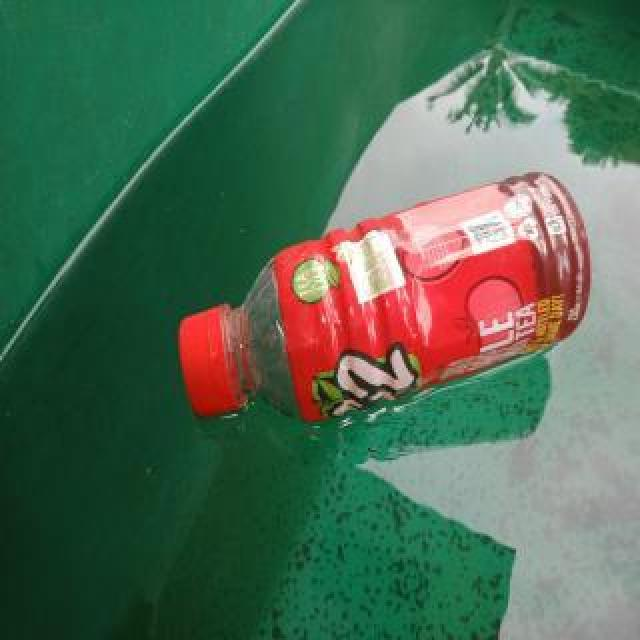bottle: (179, 171, 591, 425)
